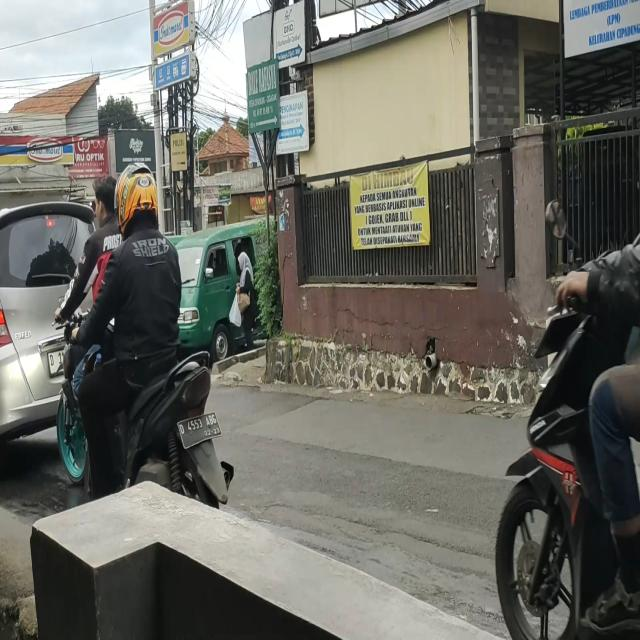helmet: (117, 163, 156, 230)
no-helmet: (94, 178, 116, 226)
